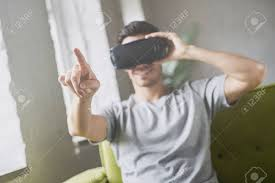oculus: (107, 37, 175, 71)
